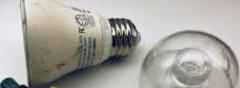lightbulb: (18, 0, 140, 88), (139, 29, 239, 87)
